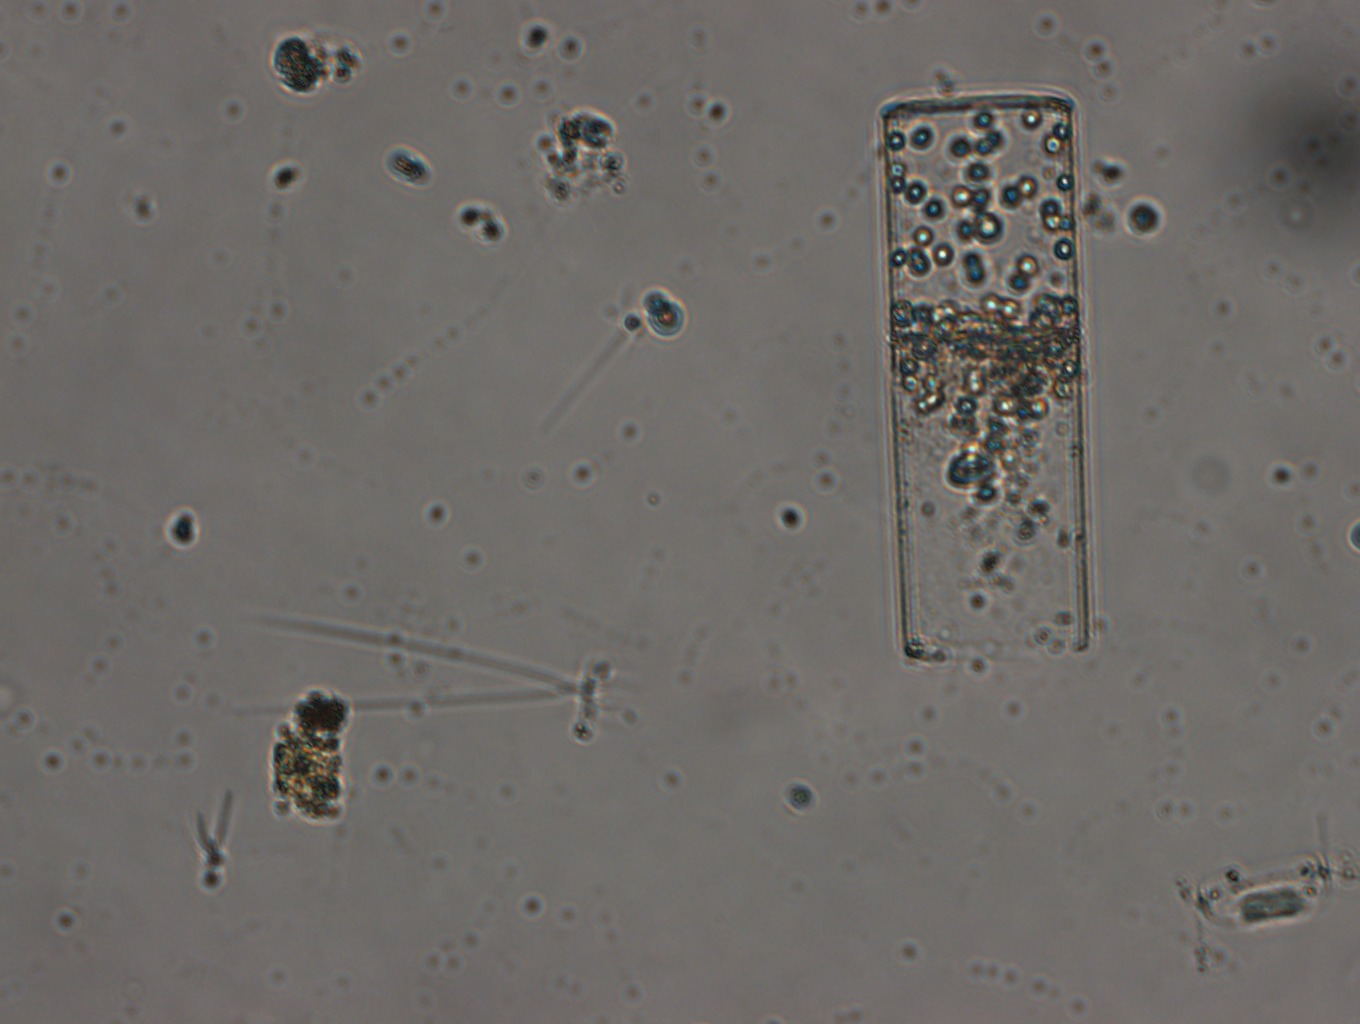guinardia flaccida: (881, 91, 1090, 660)
